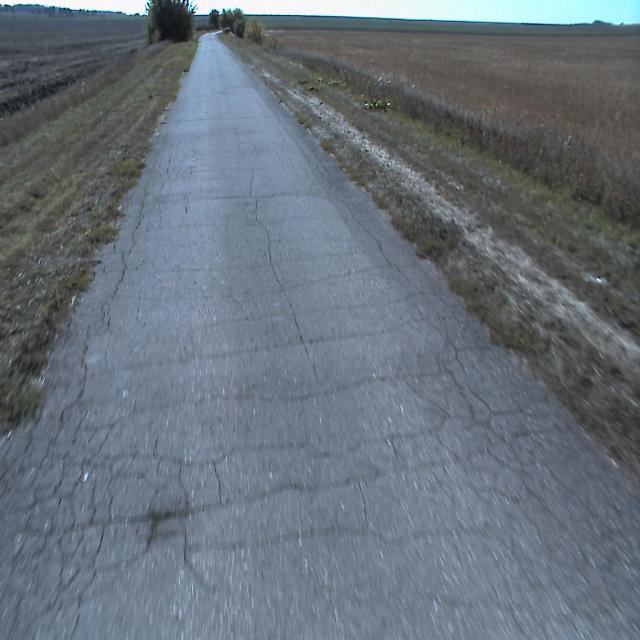road: (0, 32, 640, 639)
